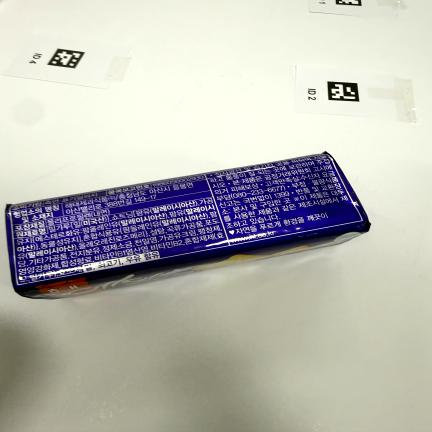cracker_ace: (5, 152, 370, 299)
